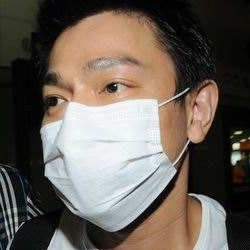mask: (31, 90, 178, 234)
